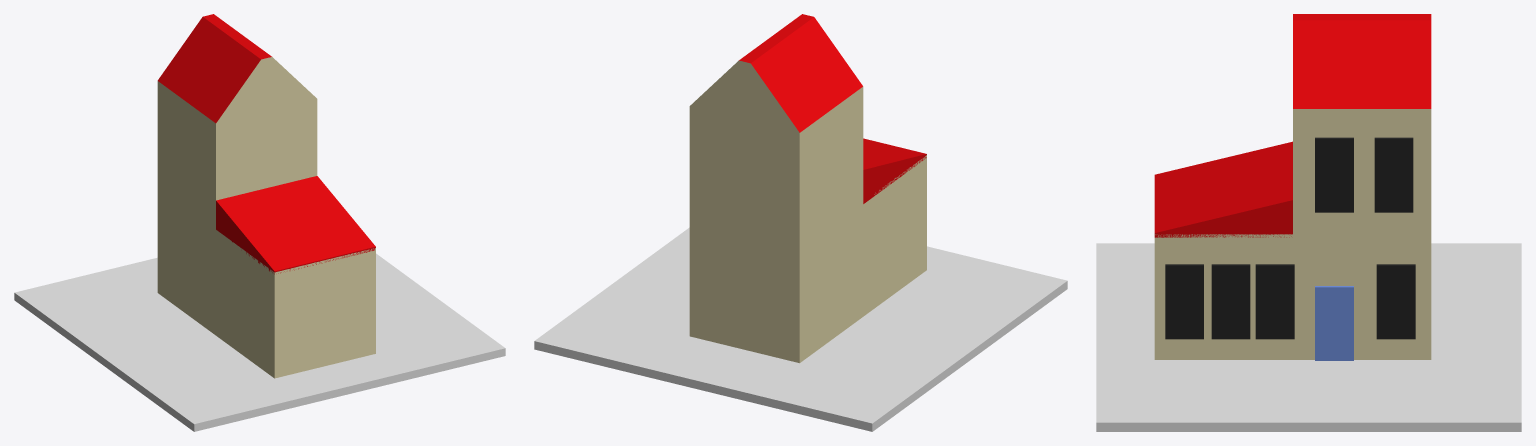
Rendered from LP HOUSE.fbx.
The picture shows the model from 3 angles, left to right: view 1: azimuth 30°, elevation 25°; view 2: azimuth 150°, elevation 25°; view 3: azimuth 270°, elevation 25°; orthographic projection. The views are drawn at different scales.
Parts seen in each view (by area): view 1: Cube, Plane.007, Cube.001; view 2: Cube, Plane.007, Cube.001; view 3: Plane.007, Cube, Cube.001, Plane.003, Plane.005, Plane.002, Plane.006, Plane, Plane.001, Plane.004.
Part boxes in pixels (x1,y1,x2,y2): Cube: [157, 14, 375, 378]; Plane.007: [14, 253, 505, 431]; Cube.001: [216, 176, 375, 274]; Cube: [689, 14, 926, 363]; Plane.007: [534, 227, 1067, 431]; Cube.001: [863, 138, 926, 203]; Plane.007: [1096, 243, 1521, 431]; Cube: [1154, 14, 1431, 359]; Cube.001: [1154, 141, 1292, 237]; Plane.003: [1255, 264, 1294, 339]; Plane.005: [1376, 264, 1415, 339]; Plane.002: [1211, 264, 1250, 339]; Plane.006: [1374, 137, 1413, 212]; Plane: [1315, 137, 1353, 212]; Plane.001: [1165, 264, 1203, 339]; Plane.004: [1315, 286, 1353, 360].
Size of the model in its own units: 615 by 518 by 615.
